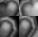heart: (0, 16, 19, 37), (19, 16, 38, 37), (0, 0, 19, 16)
